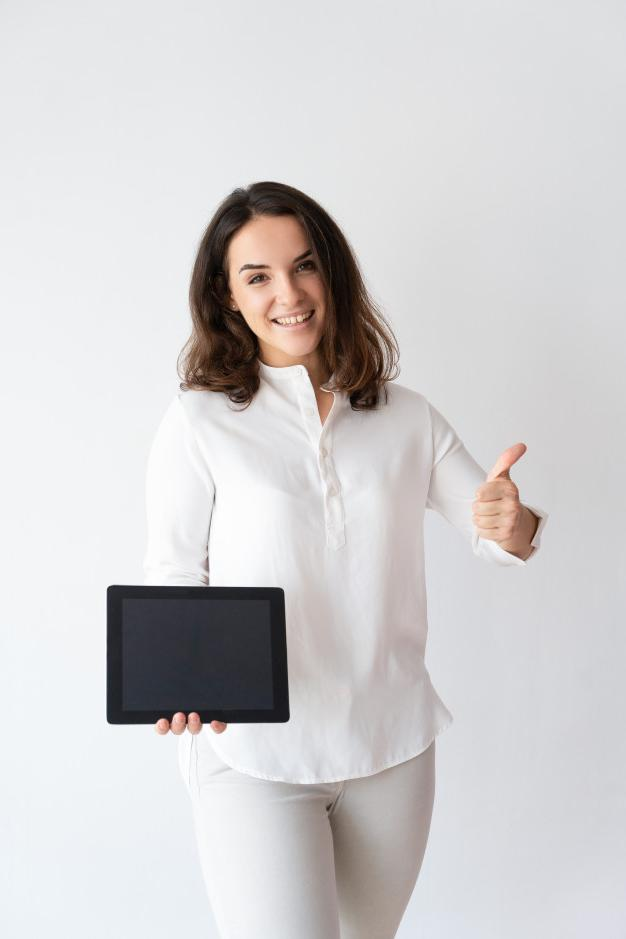thumbsup: (473, 443, 527, 542)
